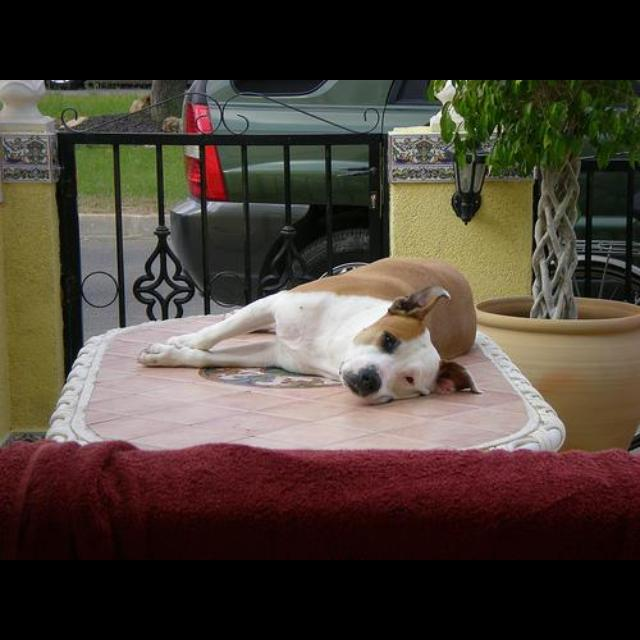amstaff: (137, 257, 483, 406)
